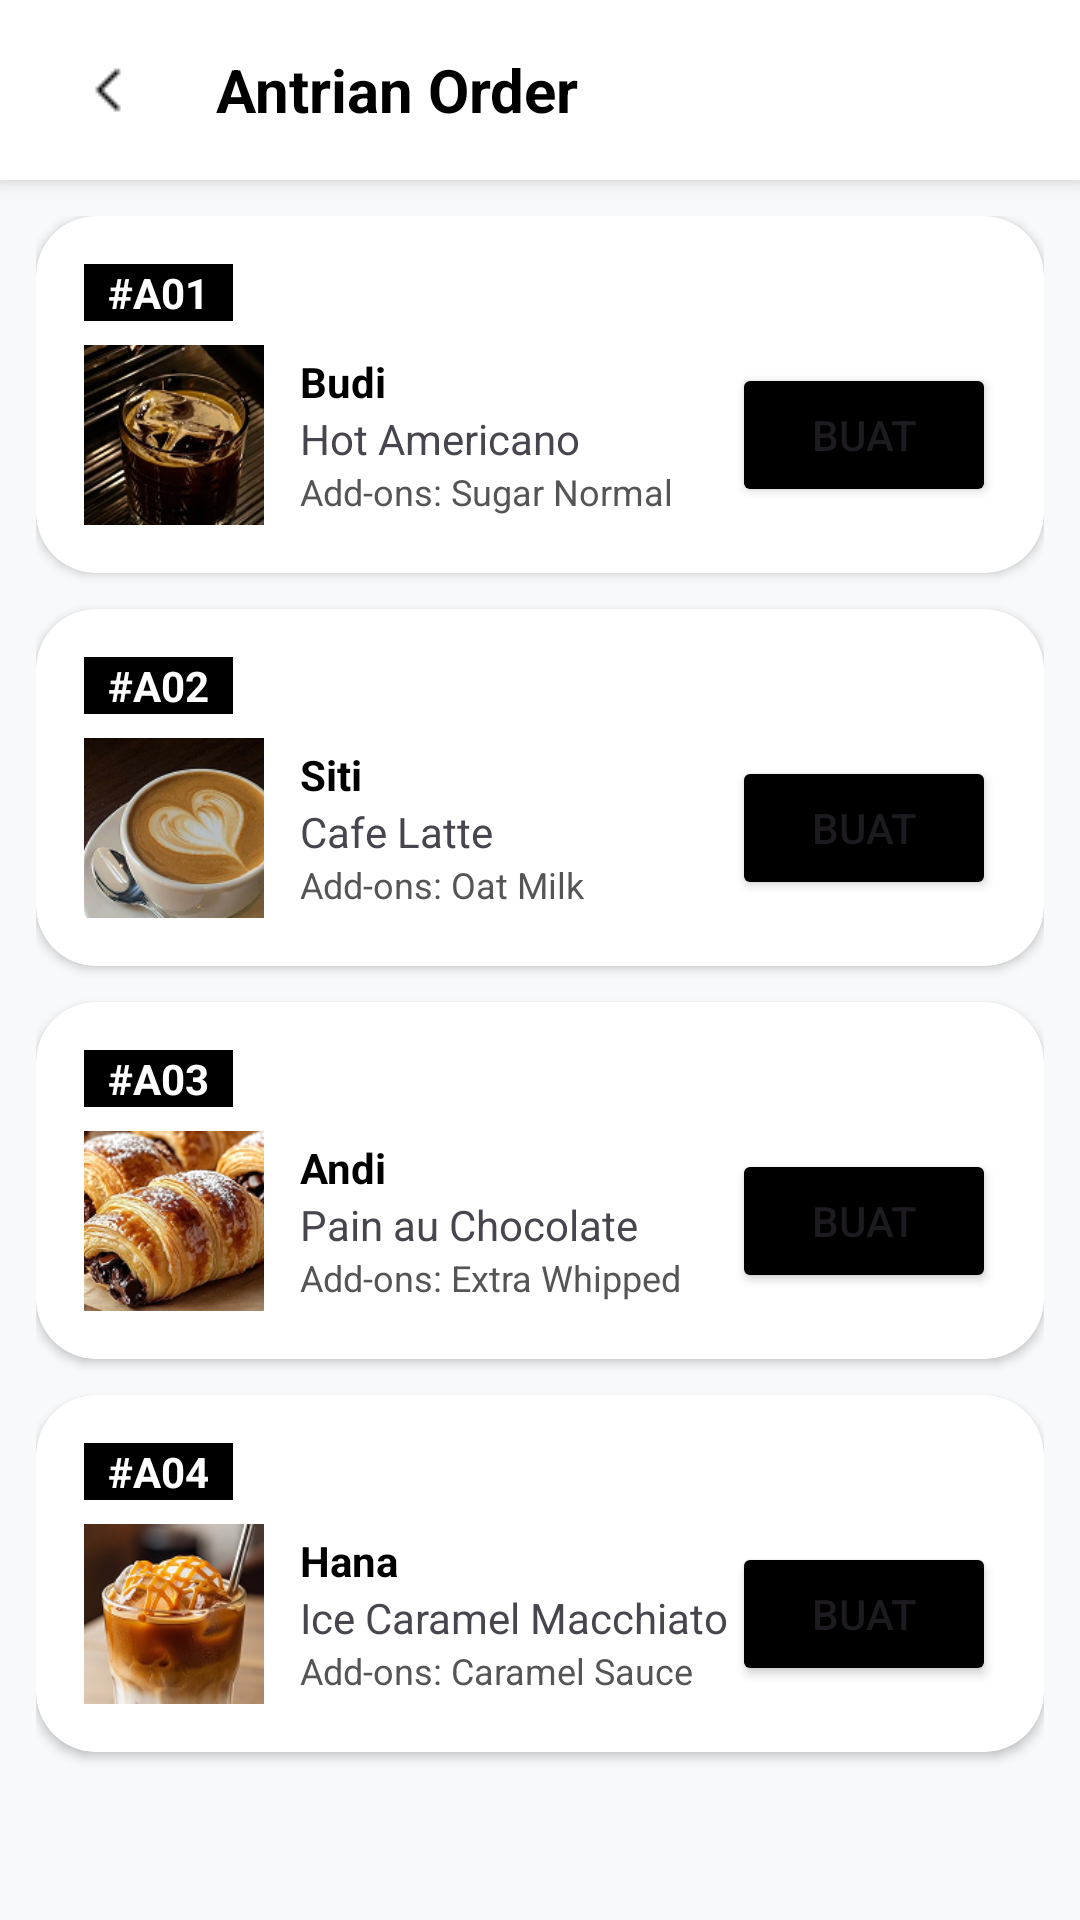

Named icons in this screenshot (1080 × 1920) and their centers, (x=x, y=y):
back: (x=108, y=90)
